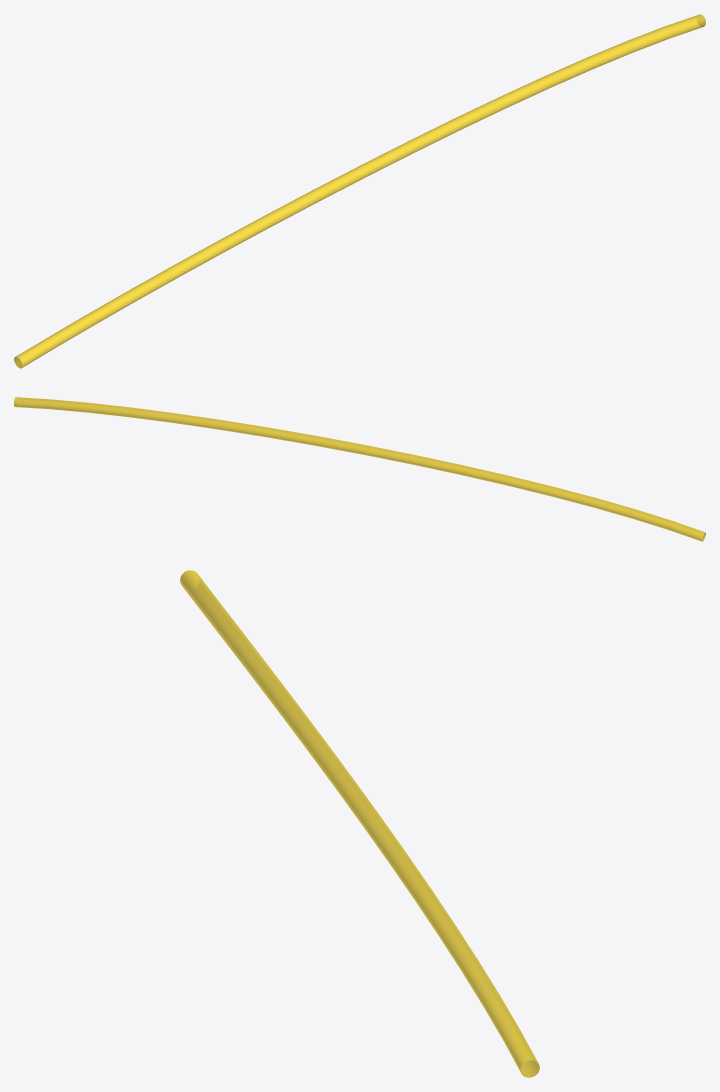
File: Event_84804159_track_96.fbx
3 views of the same model, one above another, from view 1: azimuth 30°, elevation 25°; view 2: azimuth 150°, elevation 25°; view 3: azimuth 270°, elevation 25° (orthographic). The views are drawn at different scales.
Visible parts, largest first — view 1: Model; view 2: Model; view 3: Model.
Part boxes in pixels (x1,y1,x2,y2): Model: [14, 14, 705, 368]; Model: [14, 397, 705, 541]; Model: [180, 570, 539, 1077].
Size of the model in its own units: 2.8 by 0.2738 by 0.7199.
